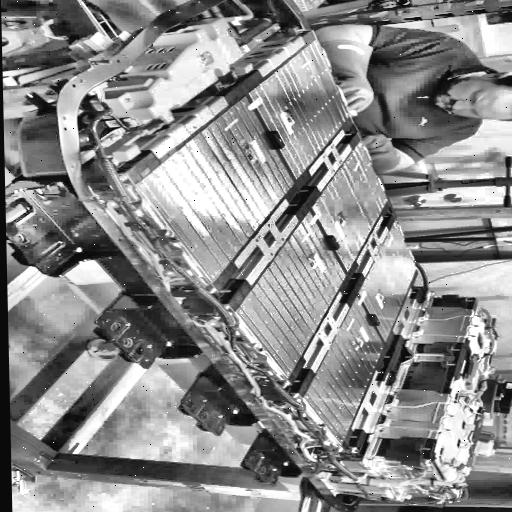battery_module: (133, 97, 294, 284), (235, 213, 347, 379), (249, 42, 351, 182), (303, 295, 385, 444), (311, 141, 388, 271), (359, 219, 416, 342)
busbar: (109, 111, 182, 163)
connector: (474, 376, 512, 416)
high_volt_cable: (101, 196, 466, 489)
low_volt_cable: (86, 92, 473, 508)
